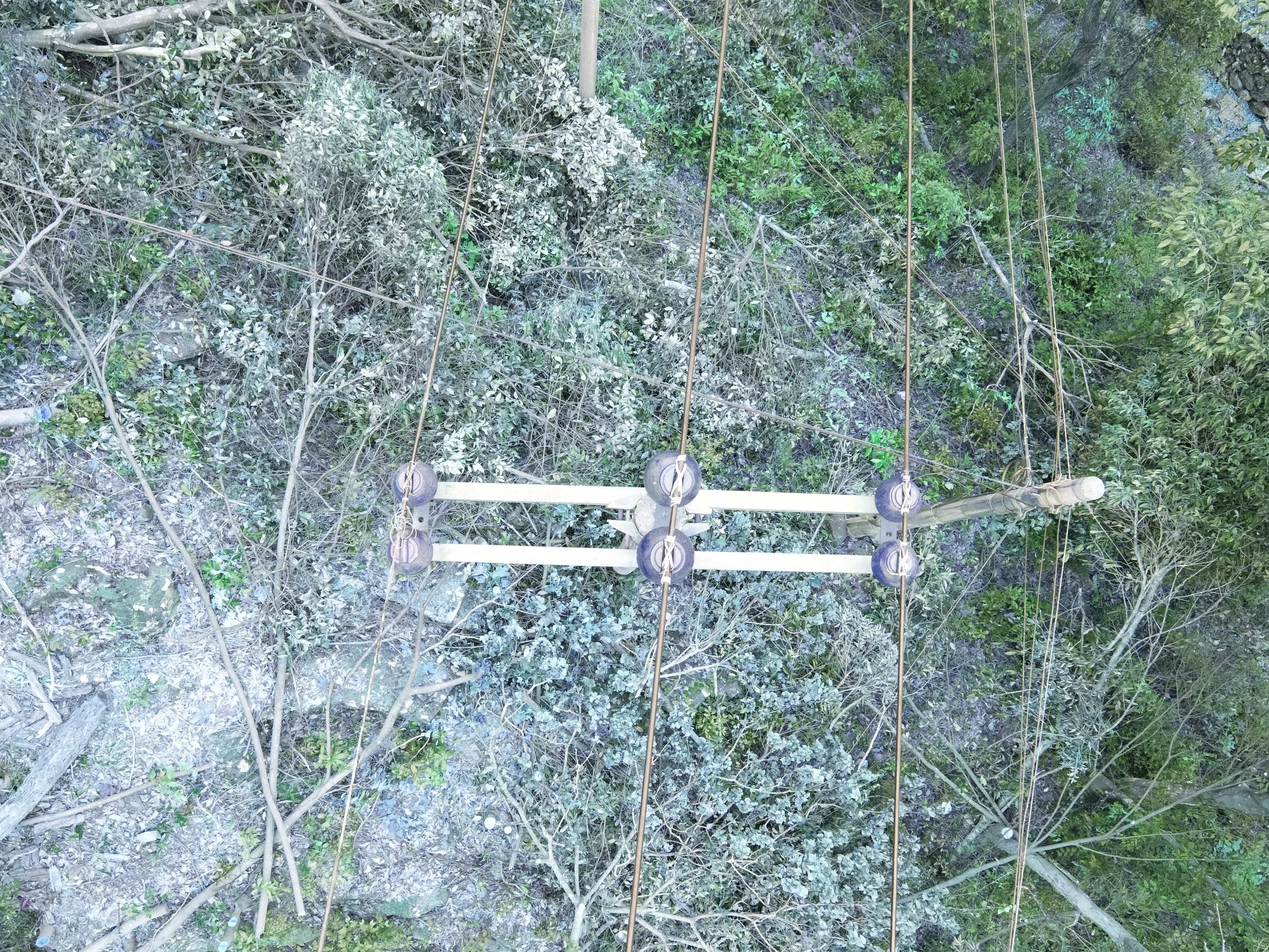severe_soiling_no_discharge_whole: (632, 525, 697, 589), (641, 447, 704, 510), (870, 471, 925, 525), (868, 537, 920, 591), (385, 526, 437, 579), (389, 460, 440, 510)
